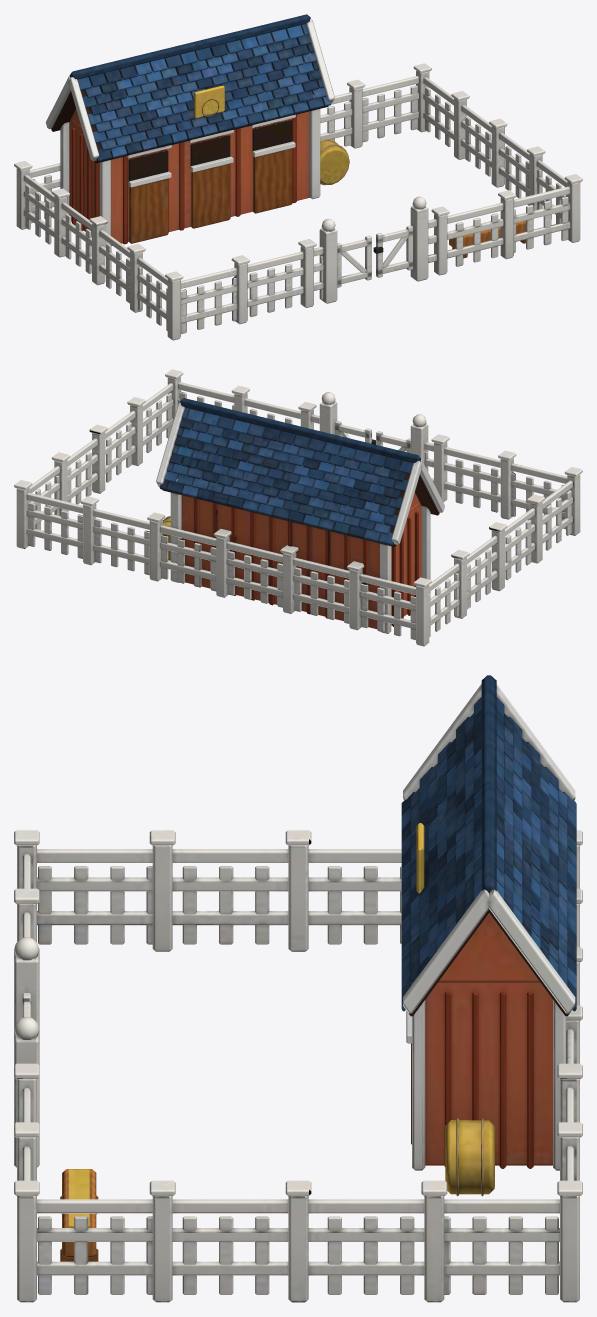
The model's file is clydesdale_stable.glb.
3 renders of one model, top to bottom at view 1: azimuth 30°, elevation 25°; view 2: azimuth 150°, elevation 25°; view 3: azimuth 270°, elevation 25°, orthographic. The views are drawn at different scales.
Parts seen in each view (by area): view 1: clydesdale_stable, gate1, gate0; view 2: clydesdale_stable, gate1, gate0; view 3: clydesdale_stable.
Part boxes in pixels (x1,y1,x2,y2): clydesdale_stable: (14, 14, 582, 340); gate1: (373, 225, 413, 277); gate0: (337, 235, 371, 287); clydesdale_stable: (14, 369, 582, 646); gate1: (334, 420, 375, 444); gate0: (376, 431, 410, 453); clydesdale_stable: (14, 675, 582, 1302).
Size of the model in its own units: 2.99 by 1.16 by 1.99.
1 material, 1 textured.
